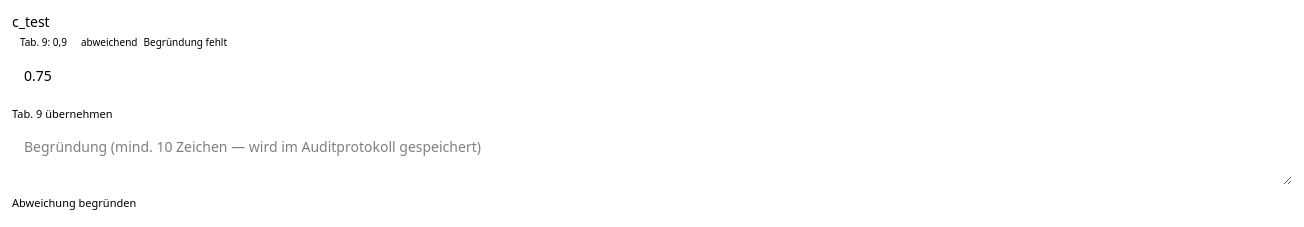
Test: LookupFillField — fill mode (client-owned scalar, DB binding, policy from the table) › "Tab. 9 übernehmen" writes the table value back
This screenshot has width=1304, height=227.
Expected: the button "abweichend wählen" is not shown
Click the button "Tab. 9 übernehmen": (62, 115) [12,106,112,123]
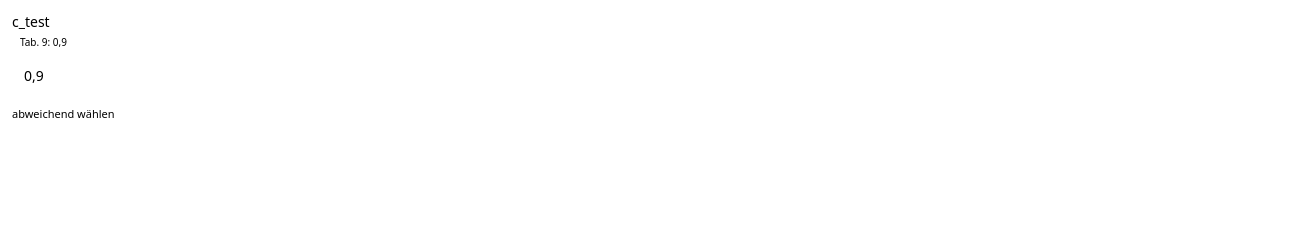
Expected: the button "abweichend wählen" is shown, [12,106,115,123]
